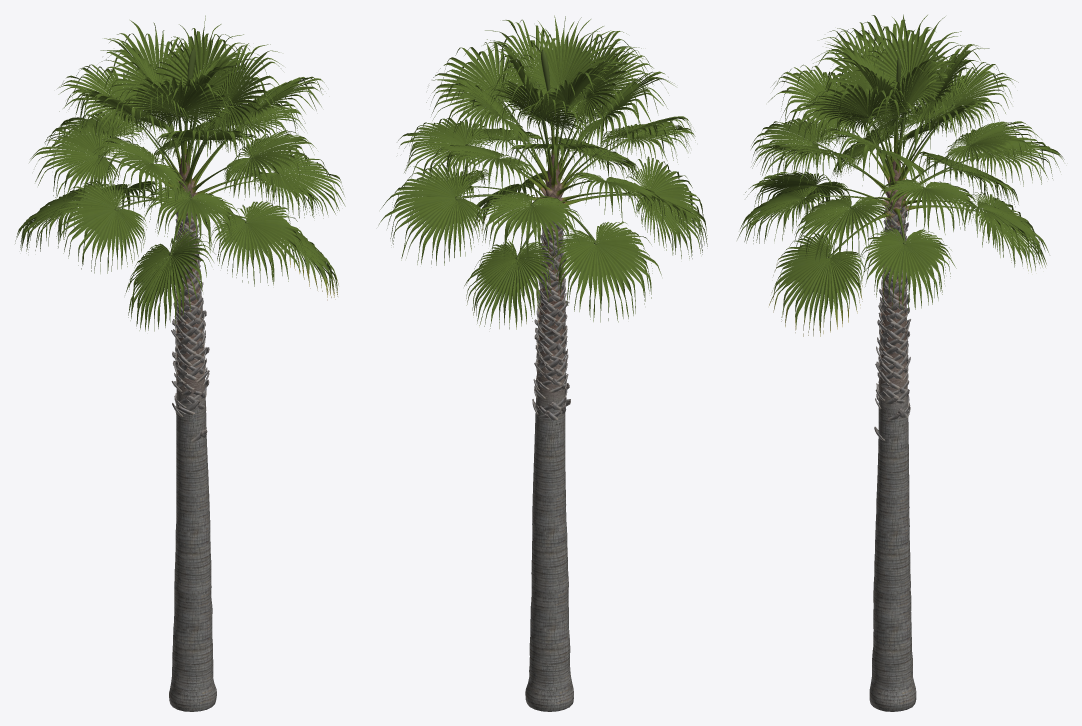
The model's file is tree-palm-washingtonia.glb.
The picture shows the model from 3 angles, left to right: view 1: azimuth 30°, elevation 25°; view 2: azimuth 150°, elevation 25°; view 3: azimuth 270°, elevation 25°; orthographic projection.
Parts seen in each view (by area): view 1: Washingtonia_filifera_HD; view 2: Washingtonia_filifera_HD; view 3: Washingtonia_filifera_HD.
Part boxes in pixels (x1,y1,x2,y2): Washingtonia_filifera_HD: (15, 15, 345, 711); Washingtonia_filifera_HD: (378, 15, 707, 711); Washingtonia_filifera_HD: (737, 14, 1064, 711).
Size of the model in its own units: 5.53 by 12.79 by 5.82.
9 materials, 9 textured.
